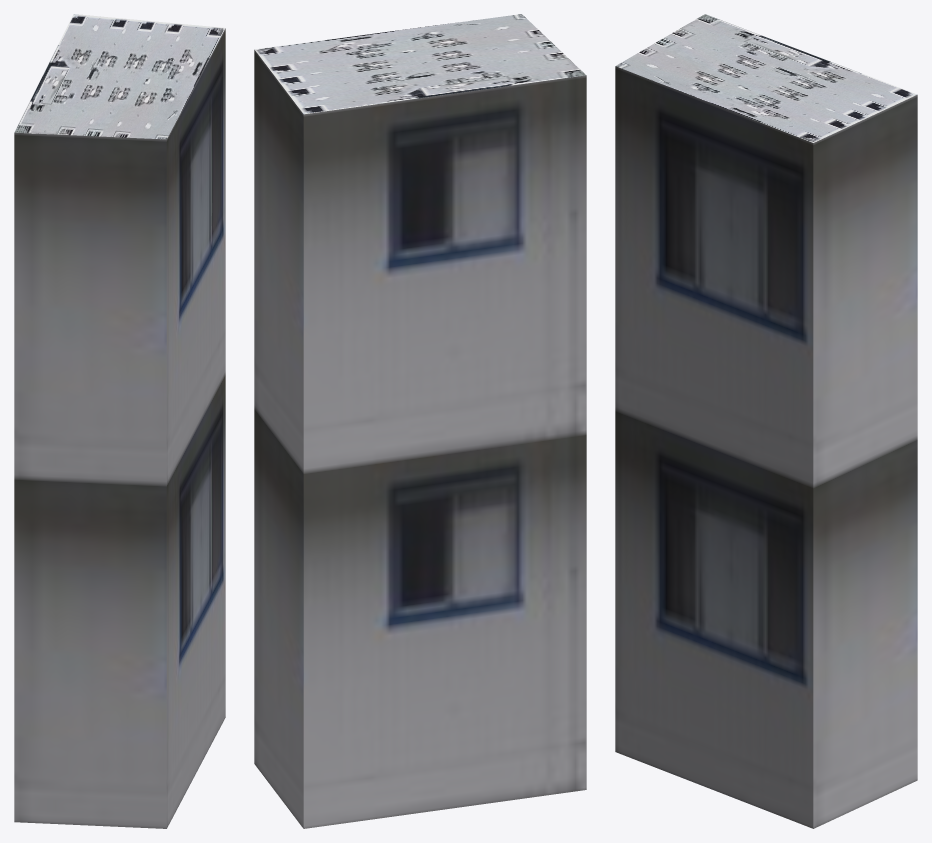
File: ResTex__3441.fbx
The picture shows the model from 3 angles, left to right: view 1: azimuth 30°, elevation 25°; view 2: azimuth 150°, elevation 25°; view 3: azimuth 270°, elevation 25°; orthographic projection. The views are drawn at different scales.
Parts seen in each view (by area): view 1: CityEngineMaterial_9_m, CityEngineMaterial_2_m; view 2: CityEngineMaterial_9_m, CityEngineMaterial_2_m; view 3: CityEngineMaterial_9_m, CityEngineMaterial_2_m.
Boxes of the visible parts, box(x1,y1,x2,y2) form: CityEngineMaterial_9_m: box(14, 28, 225, 828); CityEngineMaterial_2_m: box(14, 14, 225, 139); CityEngineMaterial_9_m: box(254, 50, 586, 828); CityEngineMaterial_2_m: box(254, 14, 585, 114); CityEngineMaterial_9_m: box(615, 66, 917, 828); CityEngineMaterial_2_m: box(615, 14, 917, 142).
Size of the model in its own units: 2.42 by 6 by 2.4.
Materials: 2 (2 with a texture image).
